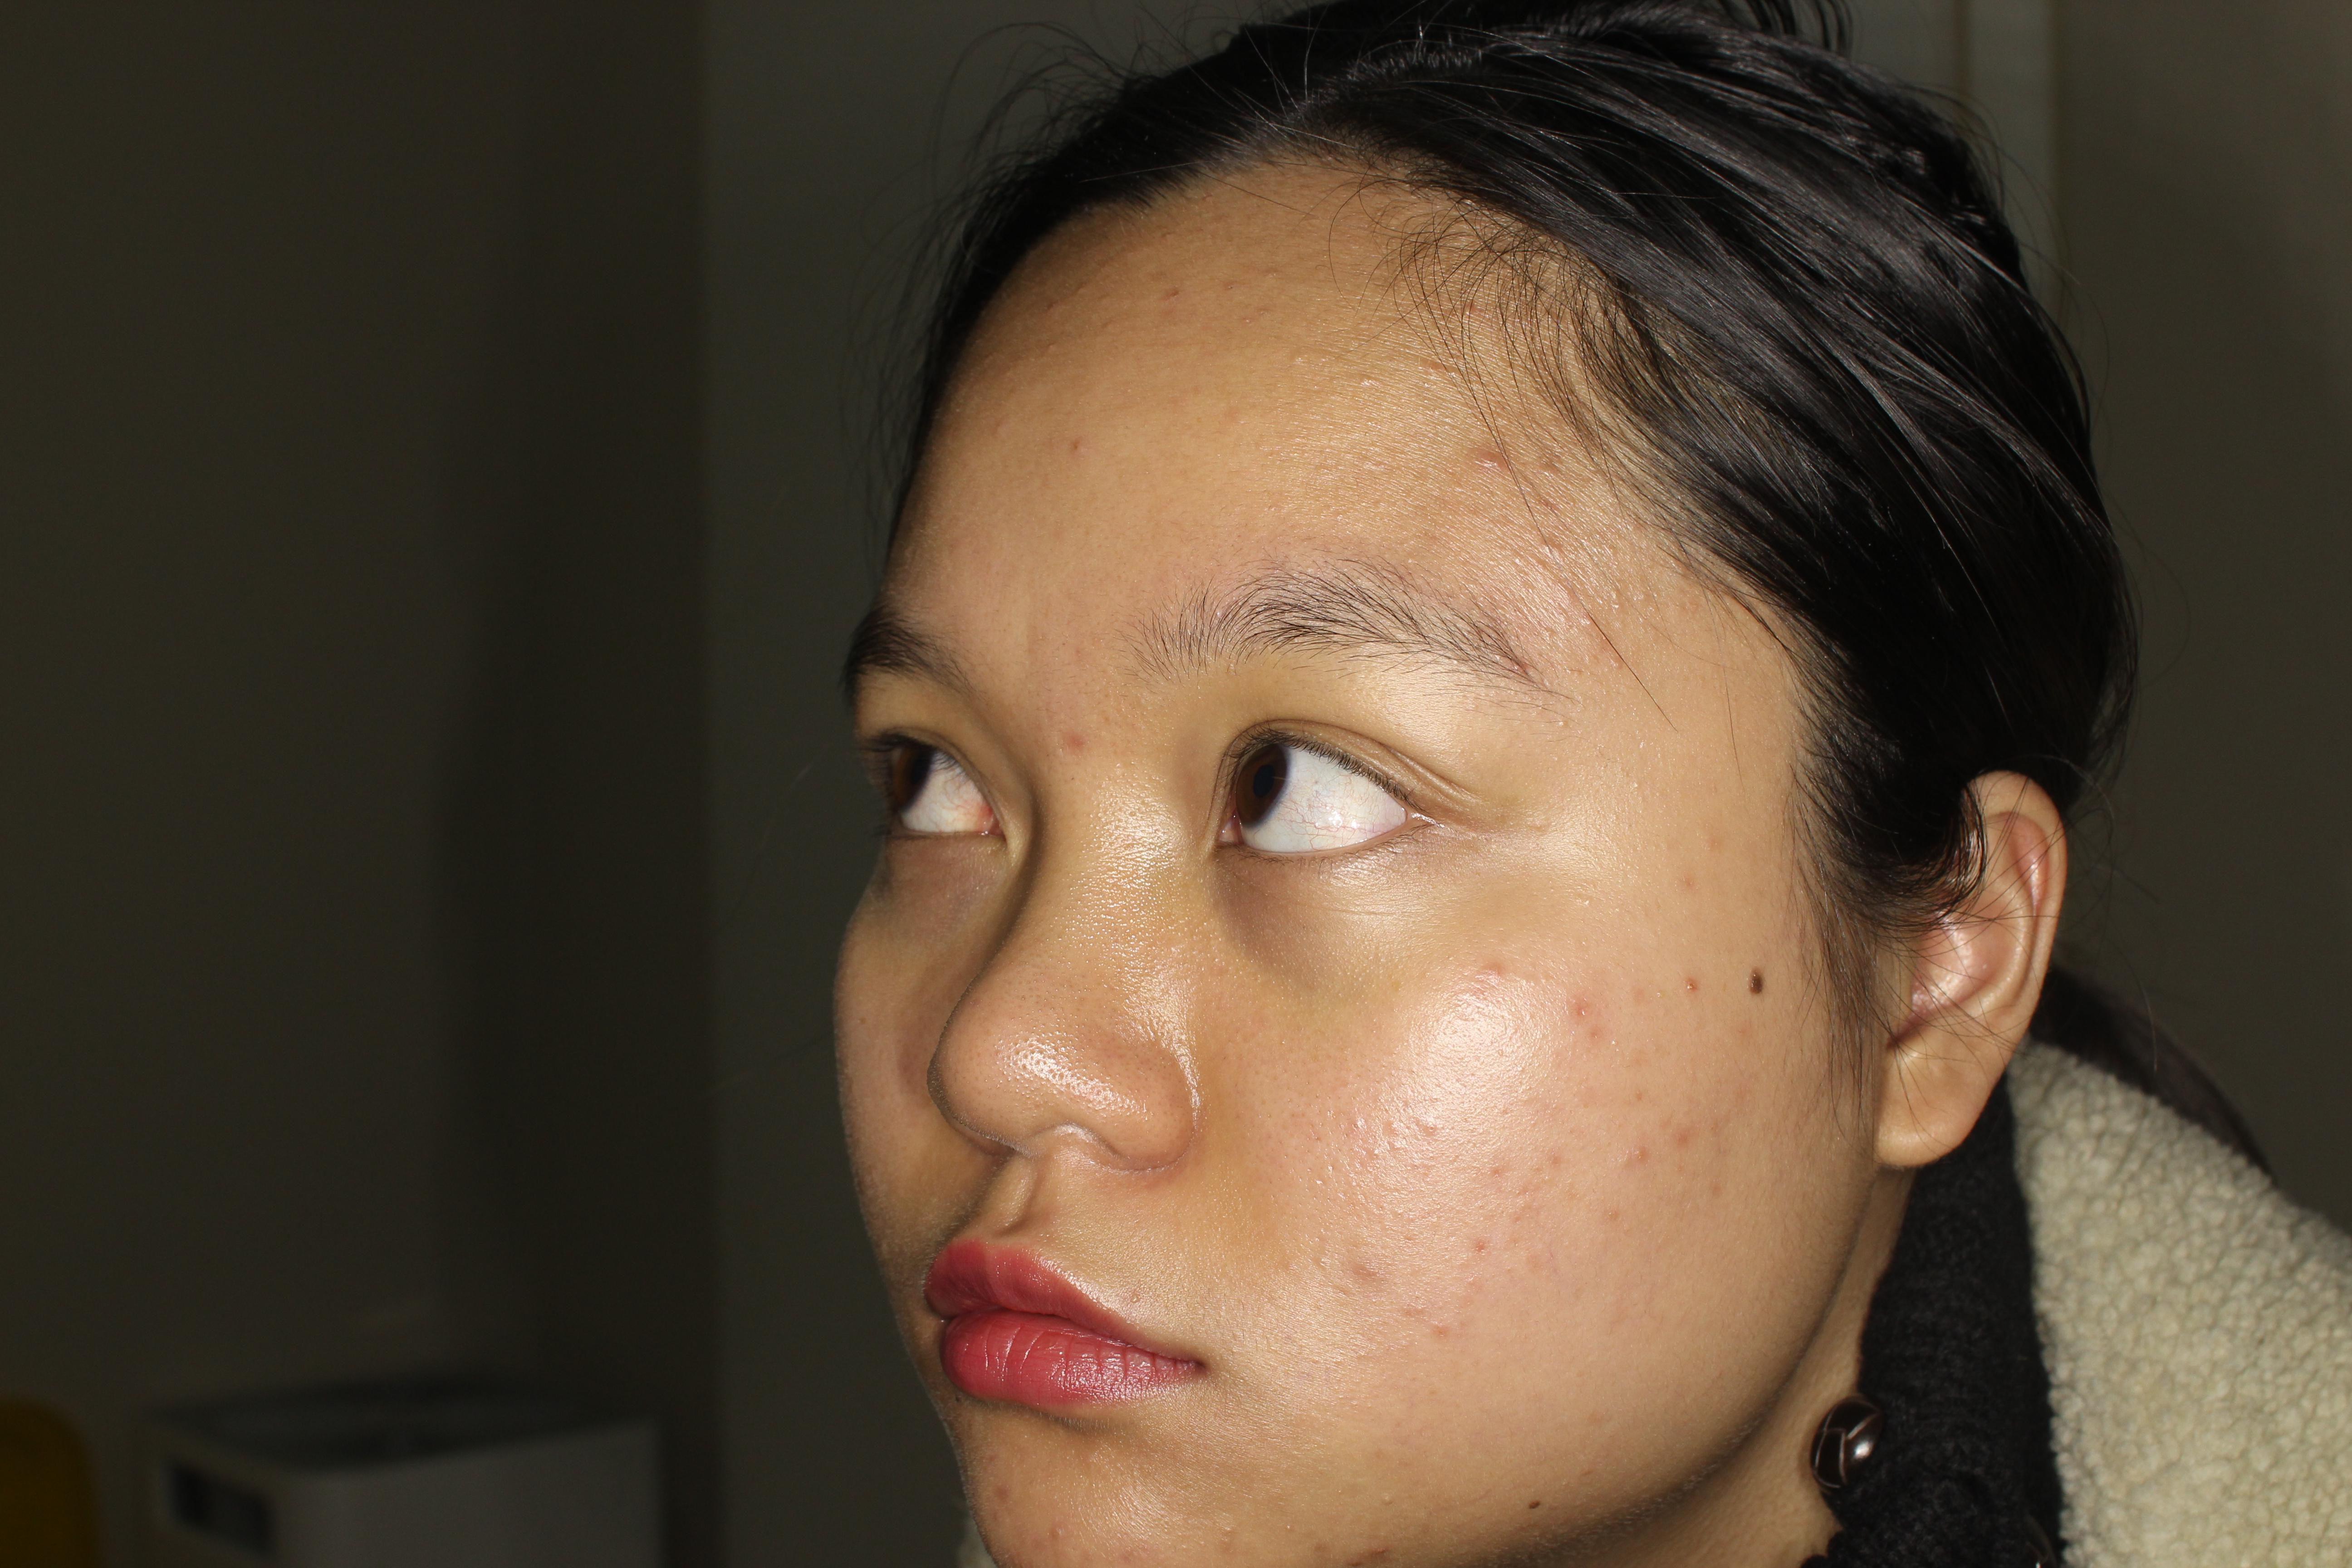fore: (1460, 422, 1535, 509), (1403, 1087, 1463, 1146), (1559, 992, 1607, 1059), (1666, 1099, 1706, 1155), (1475, 940, 1522, 984), (1619, 1115, 1647, 1183)
